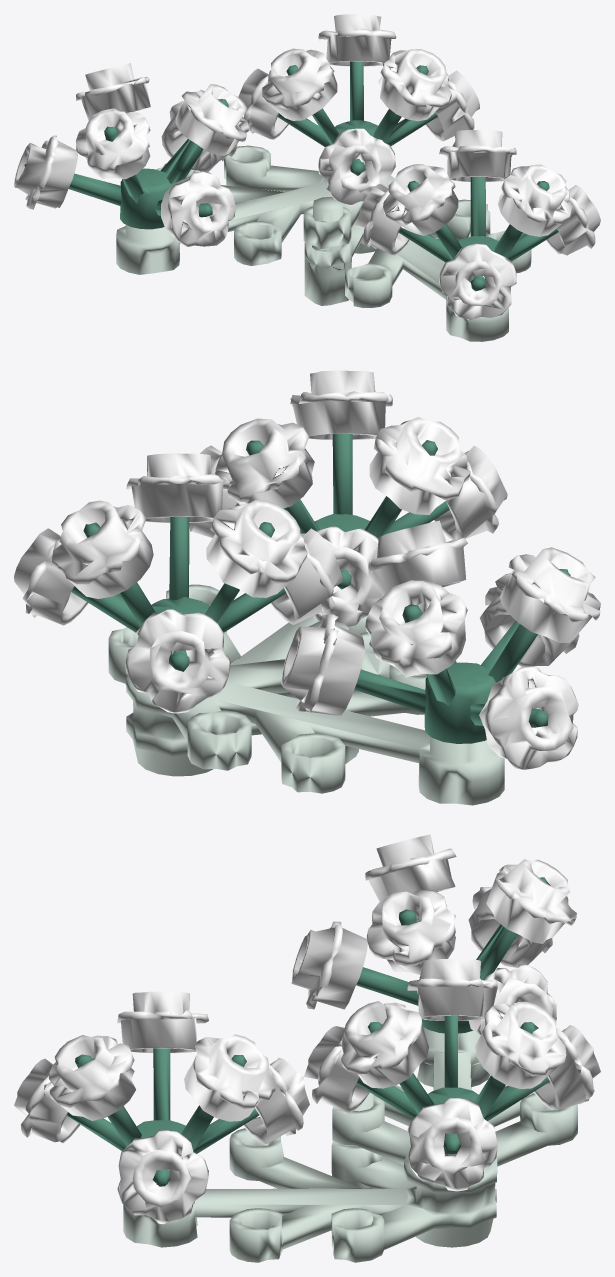
3 renders of one model, top to bottom at view 1: azimuth 30°, elevation 25°; view 2: azimuth 150°, elevation 25°; view 3: azimuth 270°, elevation 25°, orthographic. The views are drawn at different scales.
Parts seen in each view (by area): view 1: b68014eb; view 2: b68014eb; view 3: b68014eb.
Boxes of the visible parts, bbox=[...] form: b68014eb: bbox=[14, 14, 600, 341]; b68014eb: bbox=[14, 370, 600, 805]; b68014eb: bbox=[14, 834, 600, 1262].
Size of the model in its own units: 0.076 by 0.036 by 0.0744.
